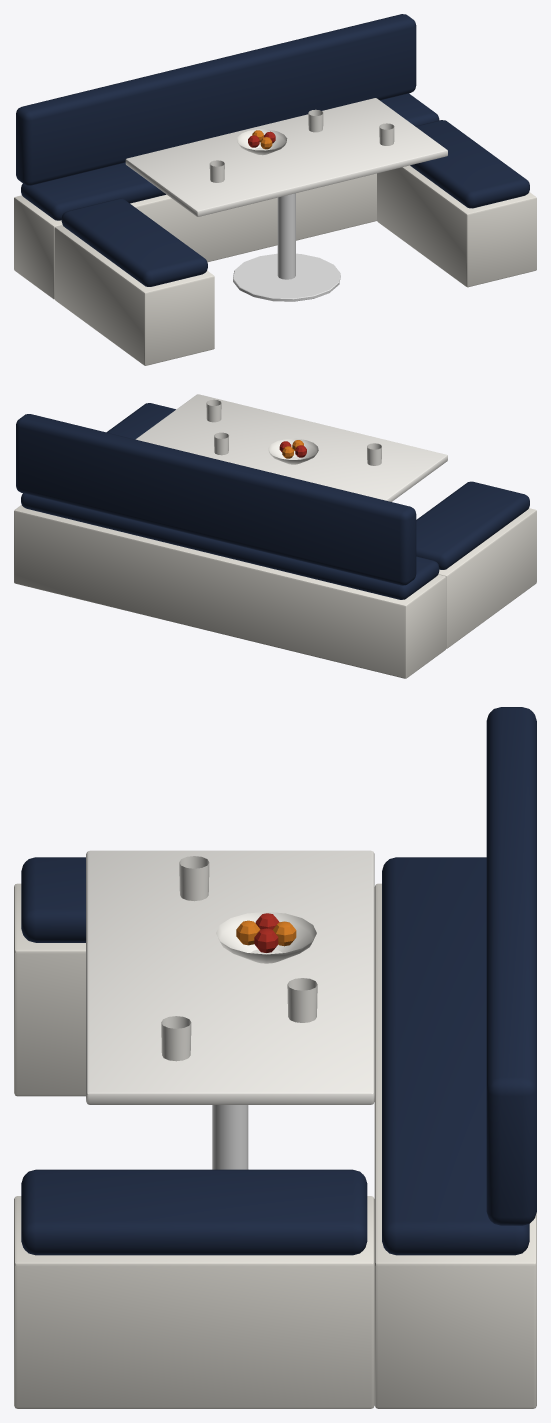
Rendered from marlin_dinette.glb.
The picture shows the model from 3 angles, top to bottom: view 1: azimuth 30°, elevation 25°; view 2: azimuth 150°, elevation 25°; view 3: azimuth 270°, elevation 25°; orthographic projection. The views are drawn at different scales.
Visible parts, largest first — view 1: marlin_dinette; view 2: marlin_dinette; view 3: marlin_dinette.
Part boxes in pixels (<box>): marlin_dinette: <box>14,14,536,365</box>; marlin_dinette: <box>14,394,536,678</box>; marlin_dinette: <box>14,707,536,1408</box>.
Bounding box in the file's own units: 2.5 × 1 × 1.45.
